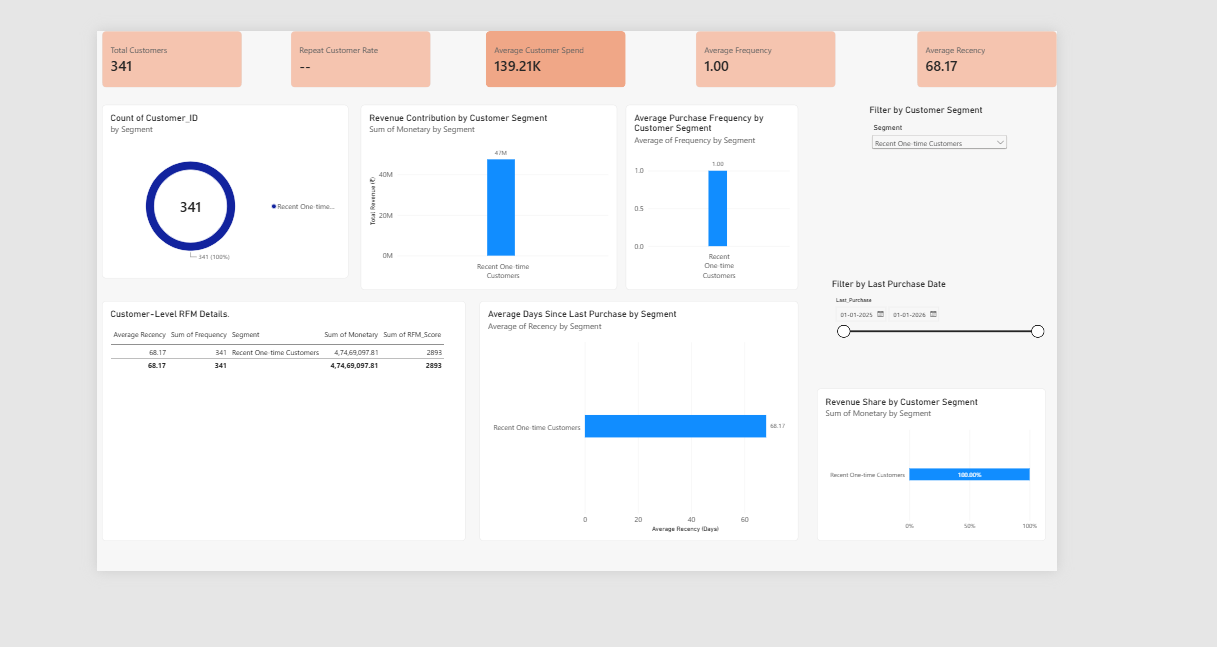

The dashboard page shown, as its layout file describes it:
{"tool":"powerbi","page":{"name":"Page 1","canvas":[1920,1080],"ordinal":0},"visuals":[{"type":"cardVisual","fields":{"Data":["customer_rfm_segments.Total Customers"]},"box":[10,0,280,113.3],"z":0},{"type":"cardVisual","fields":{"Data":["customer_rfm_segments.Average Customer Spend"]},"box":[776.7,0,280,113.3],"z":1},{"type":"cardVisual","fields":{"Data":["customer_rfm_segments.Average Frequency"]},"box":[1196.7,0,280,113.3],"z":2},{"type":"cardVisual","fields":{"Data":["customer_rfm_segments.Average Recency"]},"box":[1640,0,280,113.3],"z":3},{"type":"cardVisual","fields":{"Data":["customer_rfm_segments.Repeat Customer Rate"]},"box":[386.7,0,280,113.3],"z":4},{"type":"donutChart","fields":{"Category":["customer_rfm_segments.Segment"],"Y":["CountNonNull(customer_rfm_segments.Customer_ID)"]},"box":[10,147.5,492.5,347.5],"z":5},{"type":"clusteredColumnChart","title":"Revenue Contribution by Customer Segment","fields":{"Category":["customer_rfm_segments.Segment"],"Y":["Sum(customer_rfm_segments.Monetary)"]},"box":[527.5,147.5,512.5,370],"z":6},{"type":"clusteredBarChart","title":"Average Days Since Last Purchase by Segment","fields":{"Category":["customer_rfm_segments.Segment"],"Y":["Avg(customer_rfm_segments.Recency)"]},"box":[765,540,637.5,480],"z":7},{"type":"clusteredColumnChart","title":"Average Purchase Frequency by Customer Segment","fields":{"Category":["customer_rfm_segments.Segment"],"Y":["Avg(customer_rfm_segments.Frequency)"]},"box":[1057.5,147.5,345,370],"z":8},{"type":"slicer","title":"Filter by Last Purchase Date","fields":{"Values":["customer_rfm_segments.Last_Purchase"]},"box":[1470,495,427.5,175],"z":9},{"type":"slicer","title":"Filter by Customer Segment","fields":{"Values":["customer_rfm_segments.Segment"]},"box":[1545,147.5,280,280],"z":10},{"type":"hundredPercentStackedBarChart","title":"Revenue Share by Customer Segment","fields":{"Category":["customer_rfm_segments.Segment"],"Y":["Sum(customer_rfm_segments.Monetary)"]},"box":[1440,715,457.5,305],"z":12},{"type":"tableEx","title":"Customer-Level RFM Details.","fields":{"Values":["customer_rfm_segments.Average Recency","Sum(customer_rfm_segments.Frequency)","customer_rfm_segments.Segment","Sum(customer_rfm_segments.Monetary)","Sum(customer_rfm_segments.RFM_Score)"]},"box":[10,540,727.5,480],"z":13}]}

Visuals, with their boxes on the page's 1920x1080 design canvas (x1, y1, x2, y2). These are canvas units, not pixel positions in the 1217x647 screenshot, which may show the page scaled, cropped or inside an application window:
cardVisual - customer_rfm_segments.Total Customers: <region>10, 0, 290, 113</region>
cardVisual - customer_rfm_segments.Average Customer Spend: <region>777, 0, 1057, 113</region>
cardVisual - customer_rfm_segments.Average Frequency: <region>1197, 0, 1477, 113</region>
cardVisual - customer_rfm_segments.Average Recency: <region>1640, 0, 1920, 113</region>
cardVisual - customer_rfm_segments.Repeat Customer Rate: <region>387, 0, 667, 113</region>
donutChart - customer_rfm_segments.Segment x CountNonNull(customer_rfm_segments.Customer_ID): <region>10, 148, 502, 495</region>
"Revenue Contribution by Customer Segment" clusteredColumnChart: <region>528, 148, 1040, 518</region>
"Average Days Since Last Purchase by Segment" clusteredBarChart: <region>765, 540, 1402, 1020</region>
"Average Purchase Frequency by Customer Segment" clusteredColumnChart: <region>1058, 148, 1402, 518</region>
"Filter by Last Purchase Date" slicer: <region>1470, 495, 1898, 670</region>
"Filter by Customer Segment" slicer: <region>1545, 148, 1825, 428</region>
"Revenue Share by Customer Segment" hundredPercentStackedBarChart: <region>1440, 715, 1898, 1020</region>
"Customer-Level RFM Details." tableEx: <region>10, 540, 738, 1020</region>
